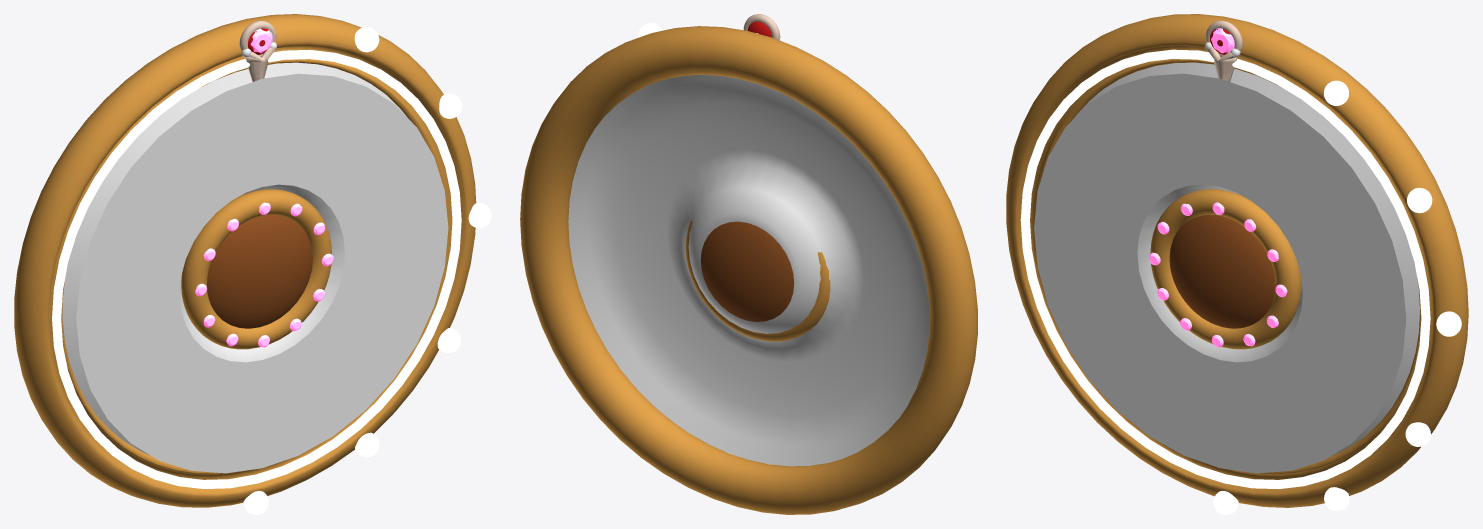
The model's file is spinner1.glb.
The picture shows the model from 3 angles, left to right: view 1: azimuth 30°, elevation 25°; view 2: azimuth 150°, elevation 25°; view 3: azimuth 330°, elevation 25°; orthographic projection.
Parts seen in each view (by area): view 1: display, outerRingOfLight, outerRing, backSide, Center, innerRing, Plane; view 2: backSide, outerRingOfLight, Center, innerRing; view 3: display, outerRingOfLight, outerRing, backSide, Center, innerRing, Plane, outerLight2, outerLight3, outerLight1, outerLight5.
Boxes of the visible parts, left/top/right/bottom form: display: left=76, top=73, right=448, bottom=473; outerRingOfLight: left=14, top=14, right=476, bottom=507; outerRing: left=52, top=49, right=461, bottom=488; backSide: left=62, top=62, right=407, bottom=455; Center: left=207, top=214, right=312, bottom=328; innerRing: left=181, top=189, right=331, bottom=349; Plane: left=244, top=41, right=275, bottom=81; backSide: left=568, top=75, right=929, bottom=466; outerRingOfLight: left=520, top=26, right=977, bottom=514; Center: left=700, top=221, right=794, bottom=321; innerRing: left=685, top=220, right=830, bottom=341; display: left=1034, top=73, right=1406, bottom=473; outerRingOfLight: left=1006, top=14, right=1468, bottom=507; outerRing: left=1020, top=49, right=1430, bottom=489; backSide: left=1075, top=62, right=1419, bottom=455; Center: left=1169, top=214, right=1275, bottom=328; innerRing: left=1150, top=189, right=1301, bottom=349; Plane: left=1206, top=41, right=1237, bottom=81; outerLight2: left=1436, top=311, right=1461, bottom=336; outerLight3: left=1407, top=187, right=1432, bottom=213; outerLight1: left=1324, top=80, right=1348, bottom=105; outerLight5: left=1405, top=422, right=1430, bottom=446.
Size of the model in its own units: 6.72 by 6.86 by 0.8845.
